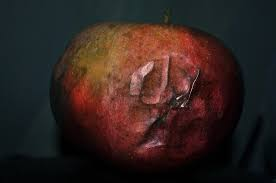damaged_apple: (60, 24, 246, 169)
